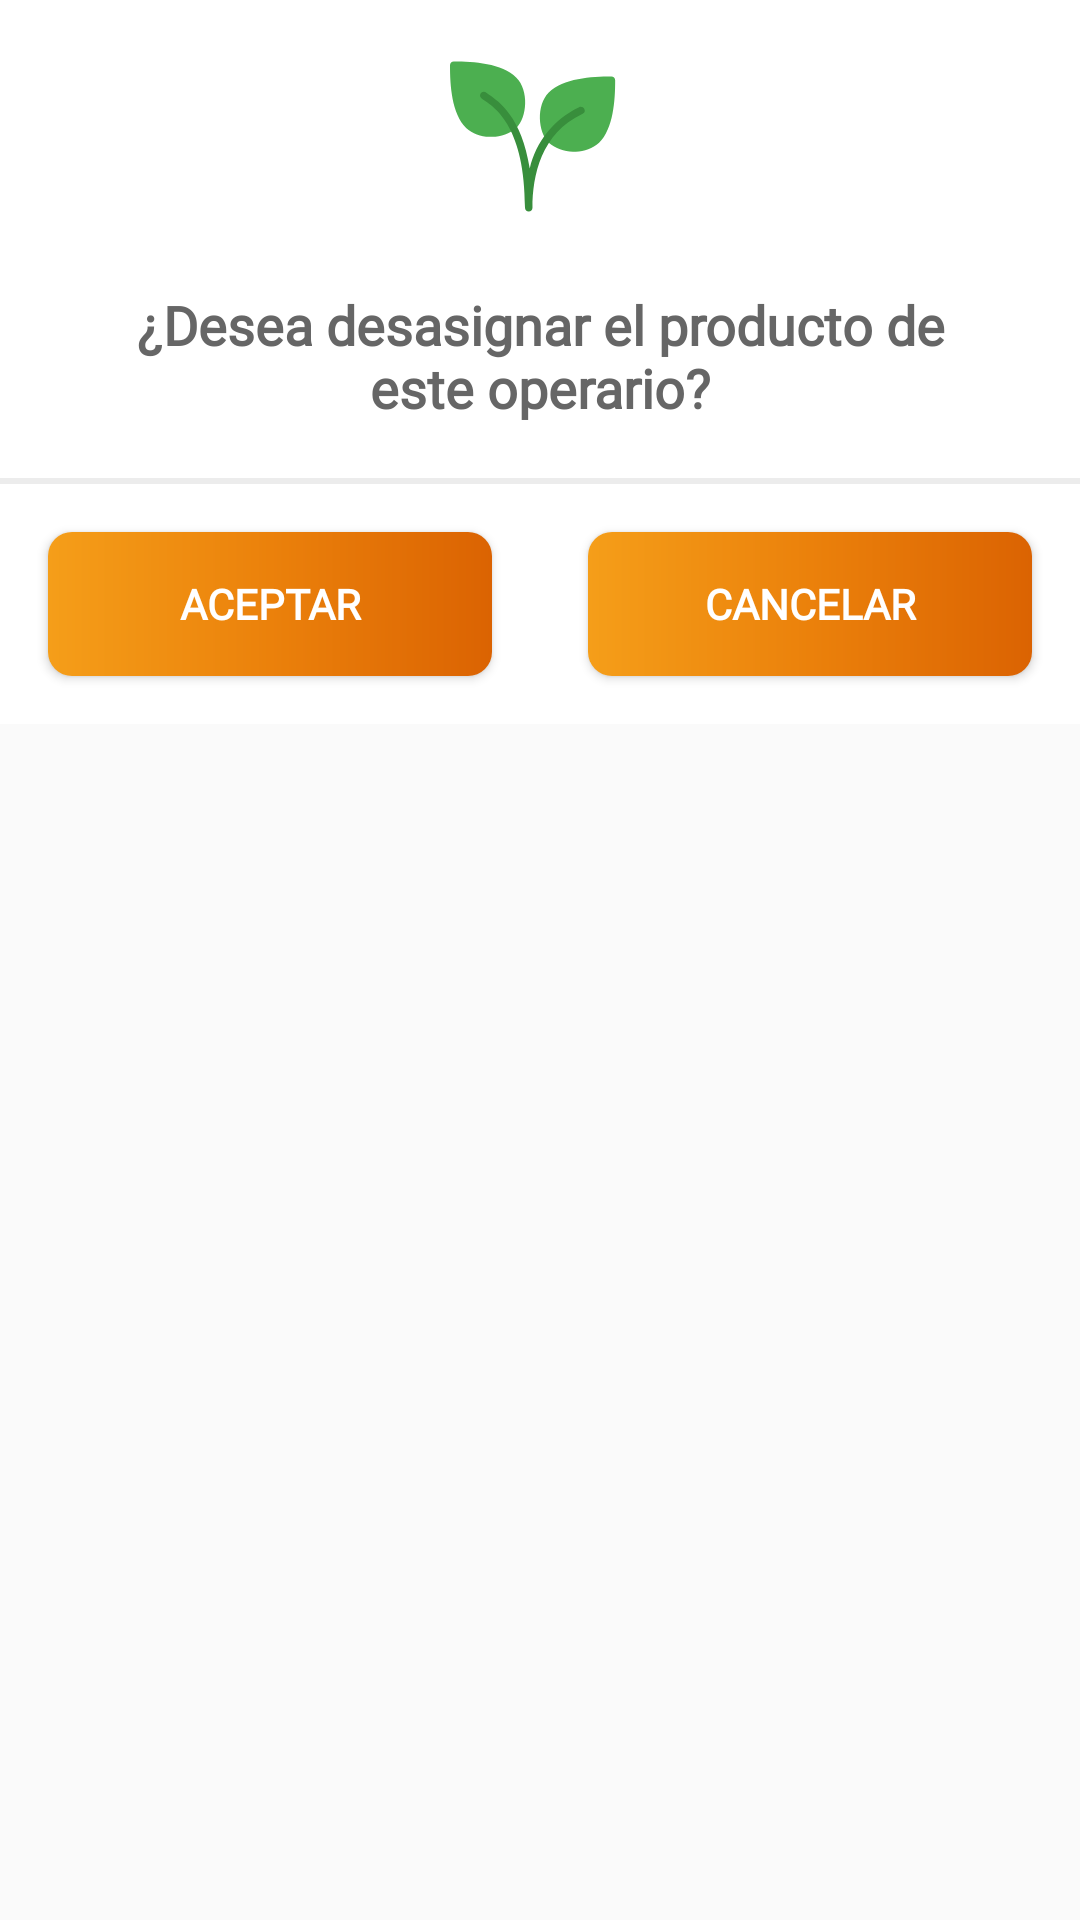

Where icons sit on this 1080 x 1920 app screen, as (x1, y1, x2, y2):
plant: (450, 61, 616, 212)
